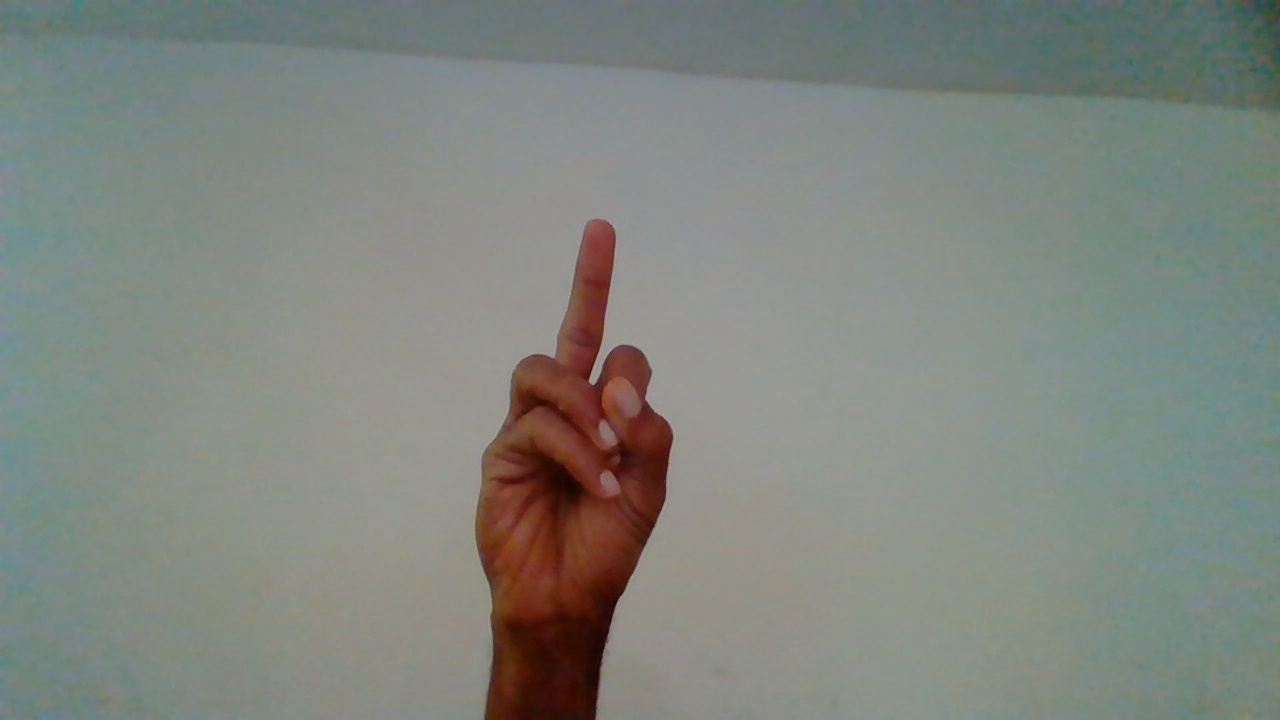he: (477, 219, 674, 720)
